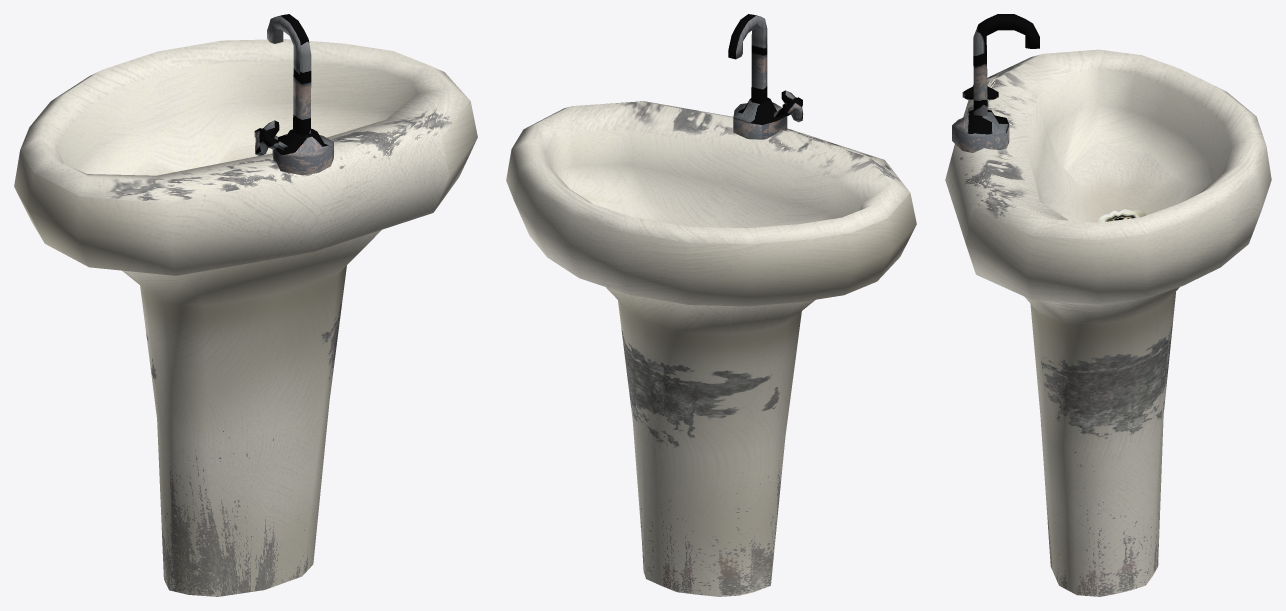
Rendered from Sink.fbx.
The picture shows the model from 3 angles, left to right: view 1: azimuth 30°, elevation 25°; view 2: azimuth 150°, elevation 25°; view 3: azimuth 270°, elevation 25°; orthographic projection. The views are drawn at different scales.
Visible parts, largest first — view 1: polySurface654; view 2: polySurface654; view 3: polySurface654.
Boxes of the visible parts, bbox=[...] form: polySurface654: bbox=[14, 14, 477, 596]; polySurface654: bbox=[506, 14, 916, 596]; polySurface654: bbox=[945, 14, 1271, 596].
Bounding box in the file's own units: 5.8 × 7.73 × 4.15.
